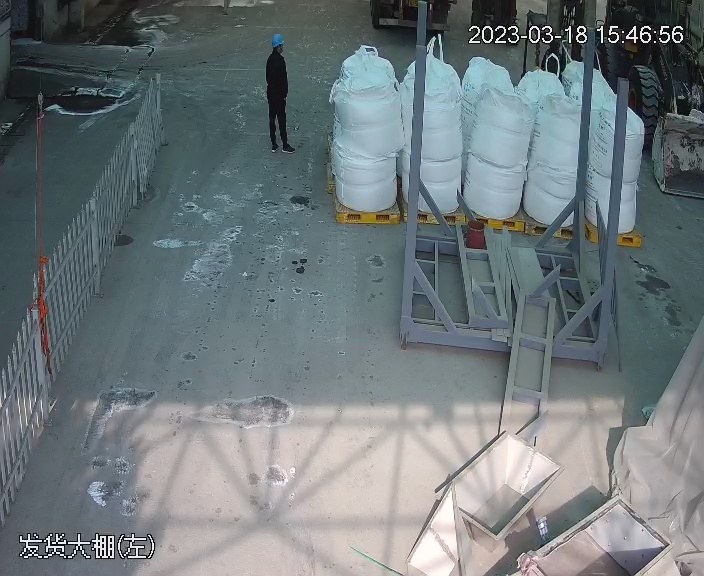head: (266, 31, 288, 67)
helmet: (270, 31, 286, 46)
people: (263, 30, 294, 152)
